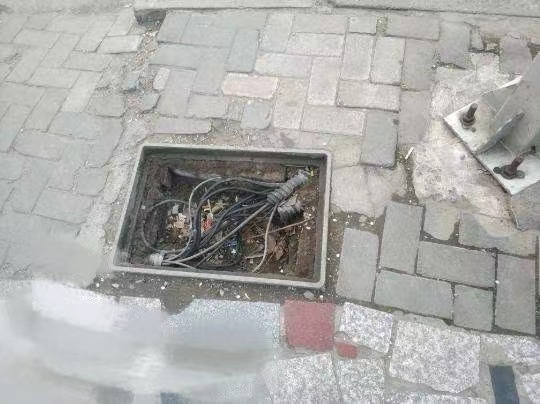well: (104, 140, 335, 293)
